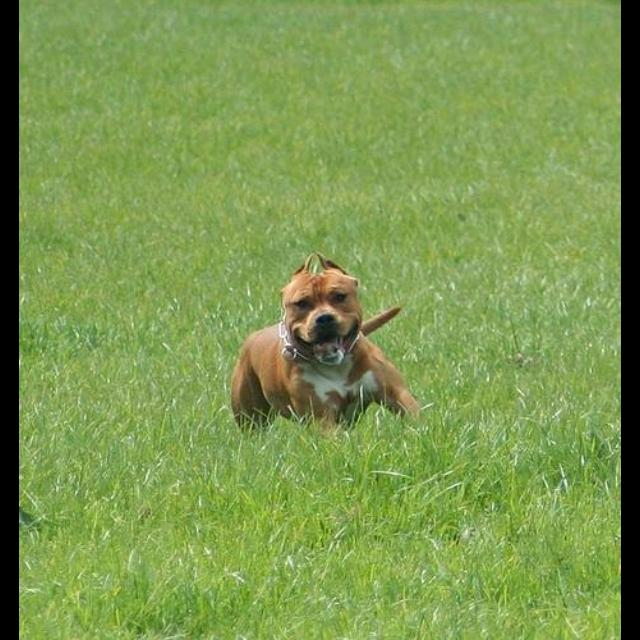amstaff: (230, 253, 422, 438)
